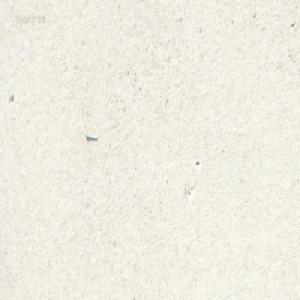Nail: (85, 132, 98, 140)
